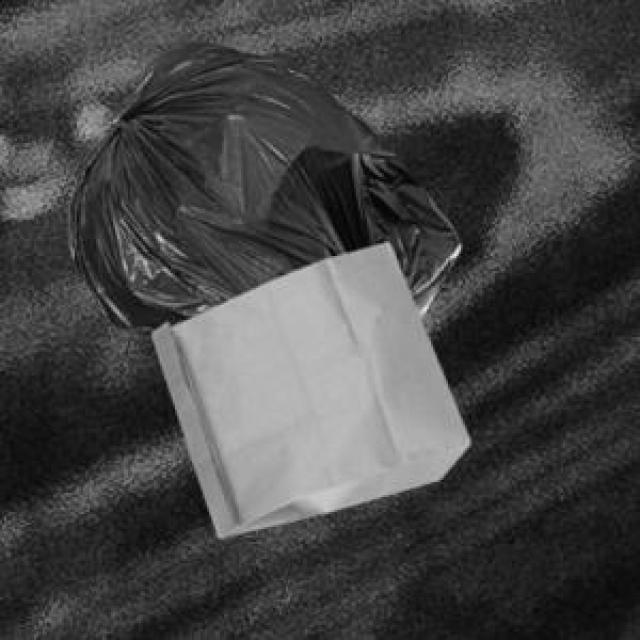miscellaneous trash: (64, 36, 457, 335)
paper: (149, 239, 465, 533)
